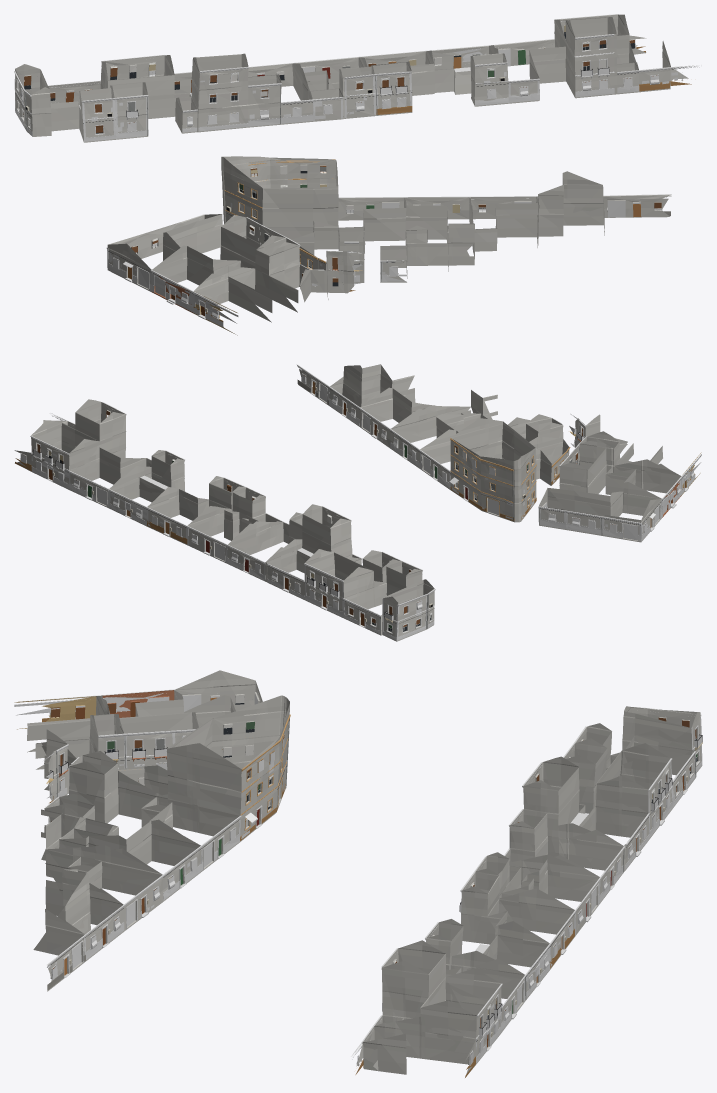
Rendered from zona_-2_1.glb.
The picture shows the model from 3 angles, top to bottom: view 1: azimuth 30°, elevation 25°; view 2: azimuth 150°, elevation 25°; view 3: azimuth 270°, elevation 25°; orthographic projection. The views are drawn at different scales.
Visible parts, largest first — view 1: z_casas_-2_1, z_fachadas_-2_1, z_casas_planas_-2_1; view 2: z_casas_-2_1, z_fachadas_-2_1, z_casas_planas_-2_1; view 3: z_casas_-2_1, z_fachadas_-2_1, z_casas_planas_-2_1.
Boxes of the visible parts, box(x1,y1,x2,y2) form: z_casas_-2_1: box(15, 14, 670, 335); z_fachadas_-2_1: box(14, 14, 697, 326); z_casas_planas_-2_1: box(189, 62, 688, 96); z_casas_-2_1: box(14, 364, 701, 641); z_fachadas_-2_1: box(15, 364, 701, 640); z_casas_planas_-2_1: box(63, 421, 313, 573); z_casas_-2_1: box(14, 670, 702, 1077); z_fachadas_-2_1: box(14, 685, 702, 1077); z_casas_planas_-2_1: box(356, 813, 588, 1070).
Bounding box in the file's own units: 107 × 12.03 × 83.35.
